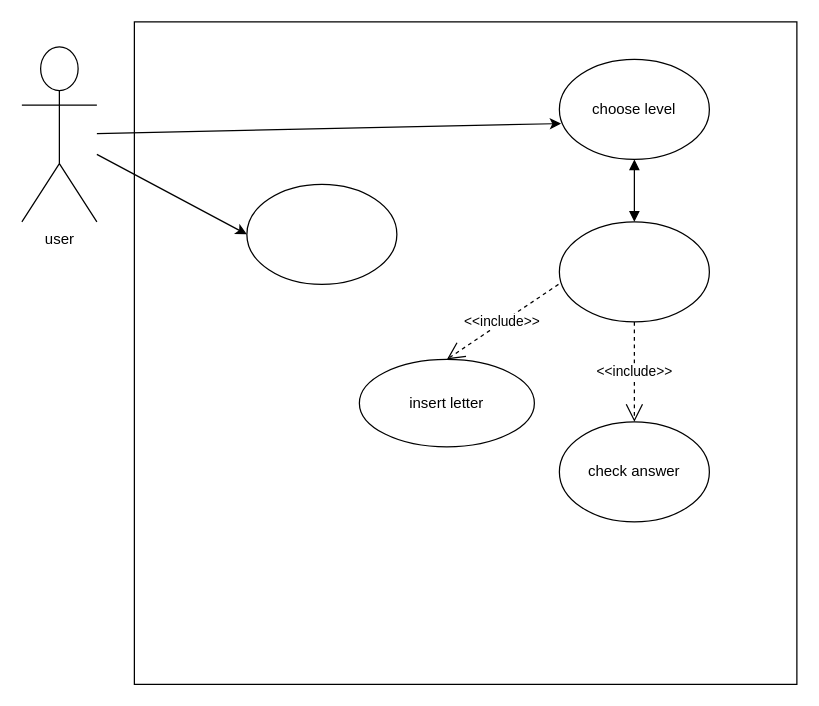
Image size: 819x706. Some labels were removed from this diagram. Here are the shapes that lost their labels. From the top down, the centre of each, then its label:
point 321,233: watch Morze
point 633,271: level passage
